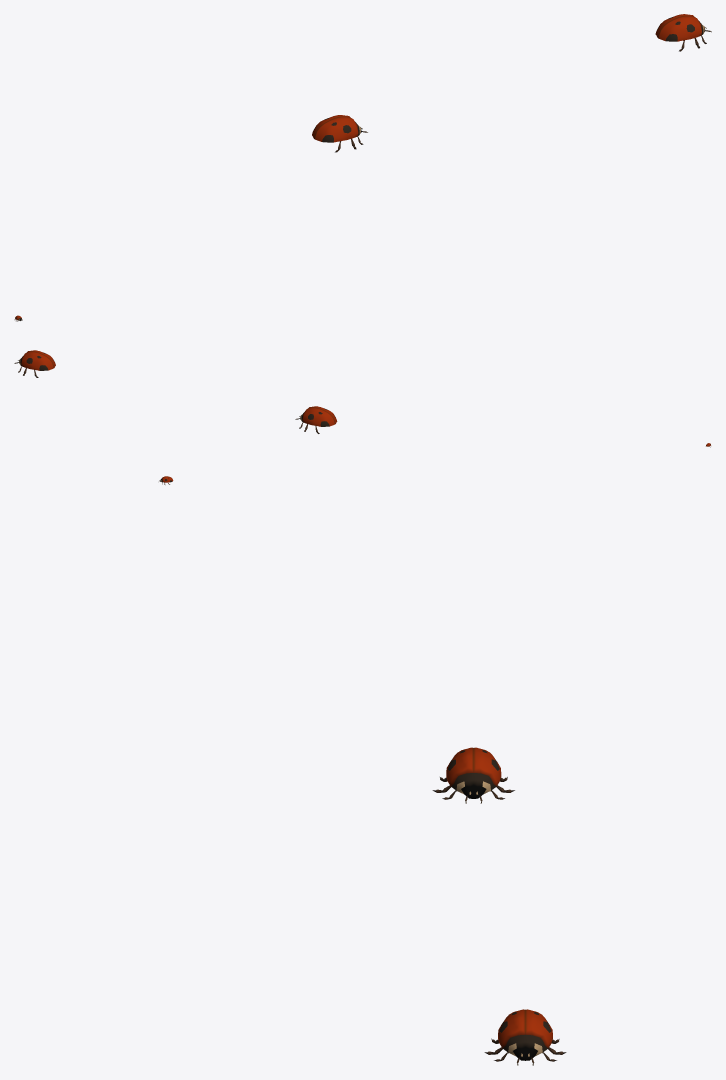
File: ladybug.glb
The picture shows the model from 3 angles, top to bottom: view 1: azimuth 30°, elevation 25°; view 2: azimuth 150°, elevation 25°; view 3: azimuth 270°, elevation 25°; orthographic projection. The views are drawn at different scales.
Parts seen in each view (by area): view 1: alt1 (×2); view 2: alt1 (×2); view 3: alt1 (×2).
Part boxes in pixels (box(x1,y1,x2,y2)): alt1 (×2): box(312, 14, 711, 152); alt1 (×2): box(14, 350, 337, 433); alt1 (×2): box(432, 747, 566, 1065).
Bounding box in the file's own units: 84.19 × 2.36 × 24.58.
